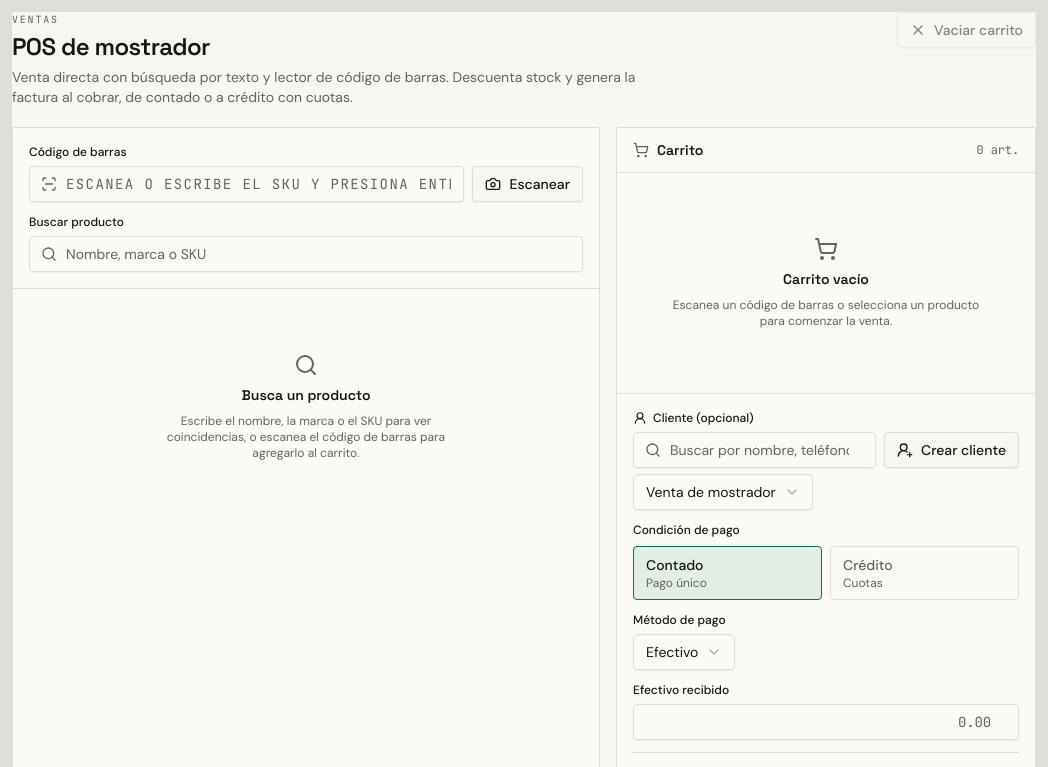
PosPage customer search by phone, document and plate (characterization) › renders the customer the backend returns for a document term
Type "SRCH-DOC-9988" into the search field with test id "pos.customer_search_input" at (754, 450), box [633,432,876,468]
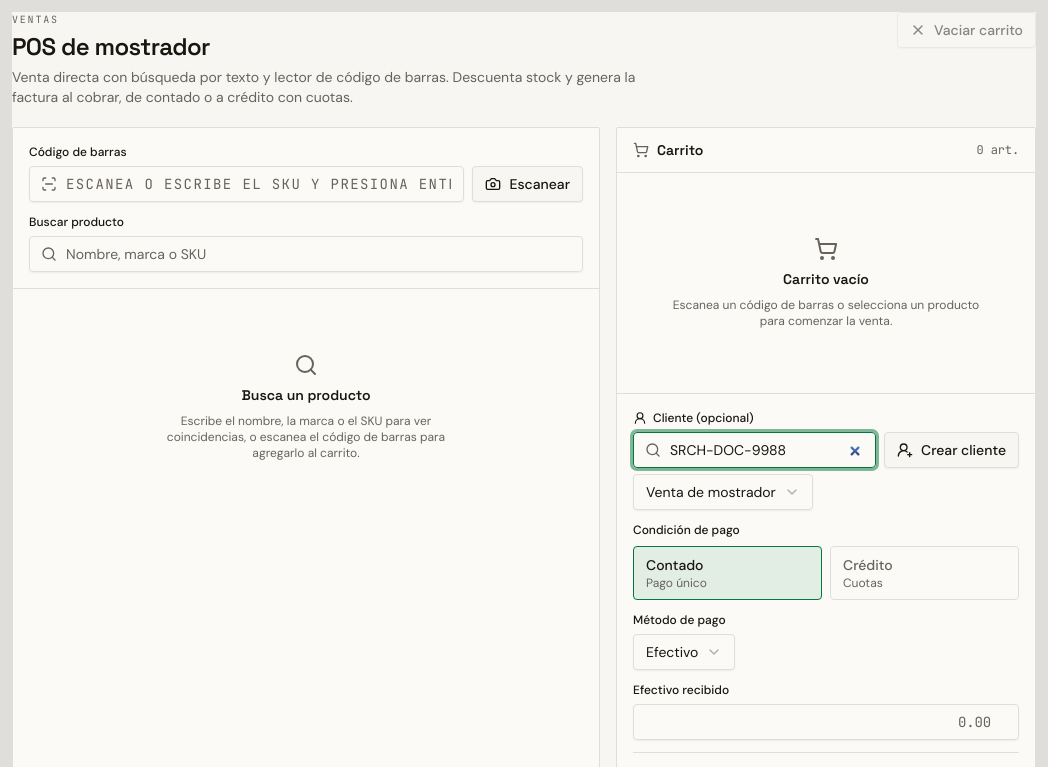
Click the dropdown with test id "pos.customer_select" at (723, 492), box [633,474,813,510]
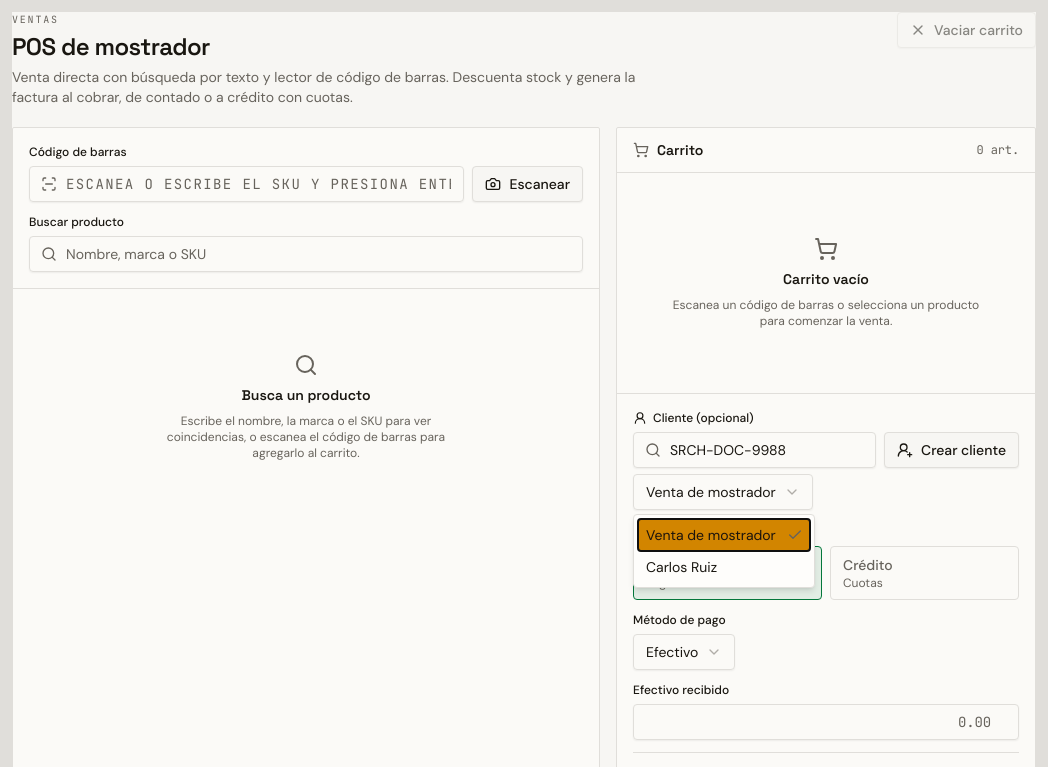
Result: the option "Carlos Ruiz" is shown at [646,558,717,576]
